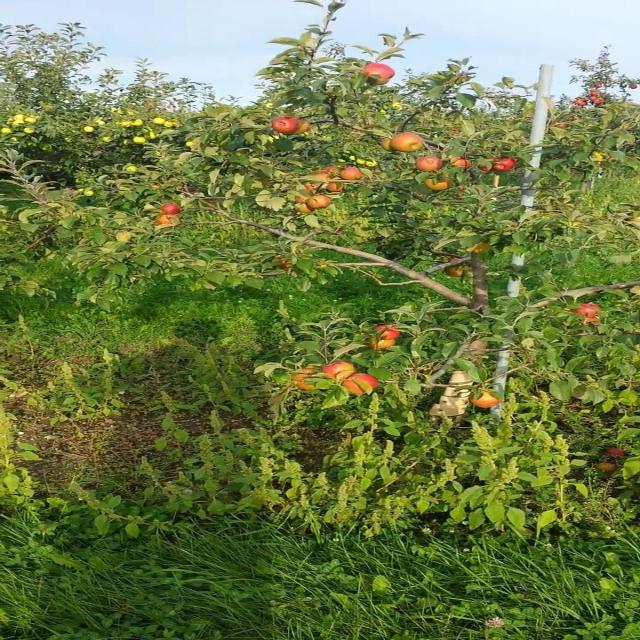apple: (360, 62, 396, 85), (342, 372, 378, 394), (391, 132, 424, 152), (322, 361, 356, 379), (469, 390, 502, 408), (291, 368, 316, 389), (271, 116, 298, 134), (573, 302, 600, 318), (376, 325, 402, 340), (416, 156, 442, 171), (367, 338, 396, 350), (307, 195, 331, 209), (491, 158, 516, 171), (424, 179, 451, 191), (444, 264, 467, 278), (340, 166, 362, 180), (156, 214, 180, 226), (449, 156, 471, 169), (469, 241, 491, 254), (293, 119, 311, 134), (273, 255, 291, 269), (596, 461, 618, 472), (160, 202, 180, 214), (602, 448, 627, 457), (478, 159, 494, 172), (300, 181, 316, 194), (580, 316, 600, 325), (327, 182, 344, 192), (380, 138, 393, 151), (311, 171, 331, 179), (298, 204, 313, 214), (322, 165, 338, 174), (440, 256, 460, 263), (293, 195, 307, 204)
